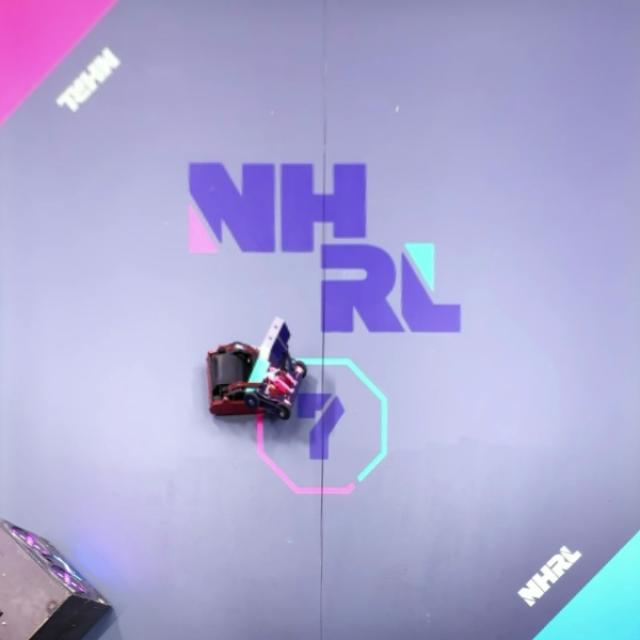housebot: (1, 520, 113, 640)
robot: (248, 316, 308, 420), (209, 342, 264, 417)
